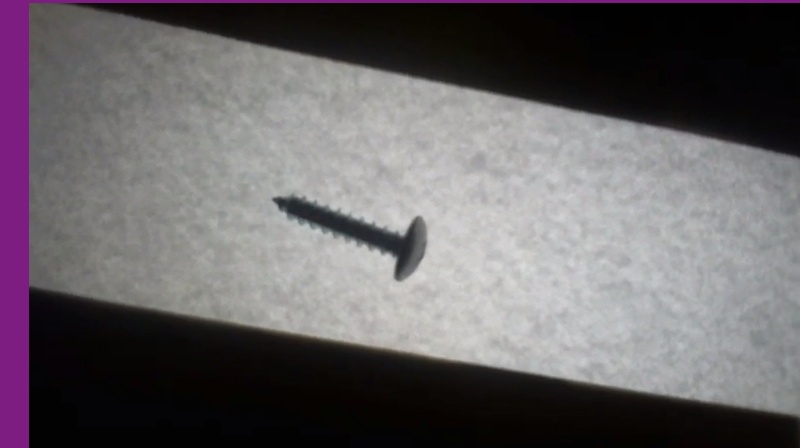S003: (265, 187, 430, 284)
